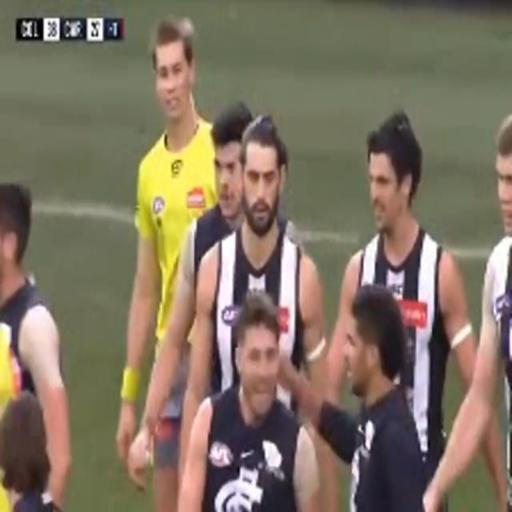nao-violencia: (172, 274, 438, 512)
